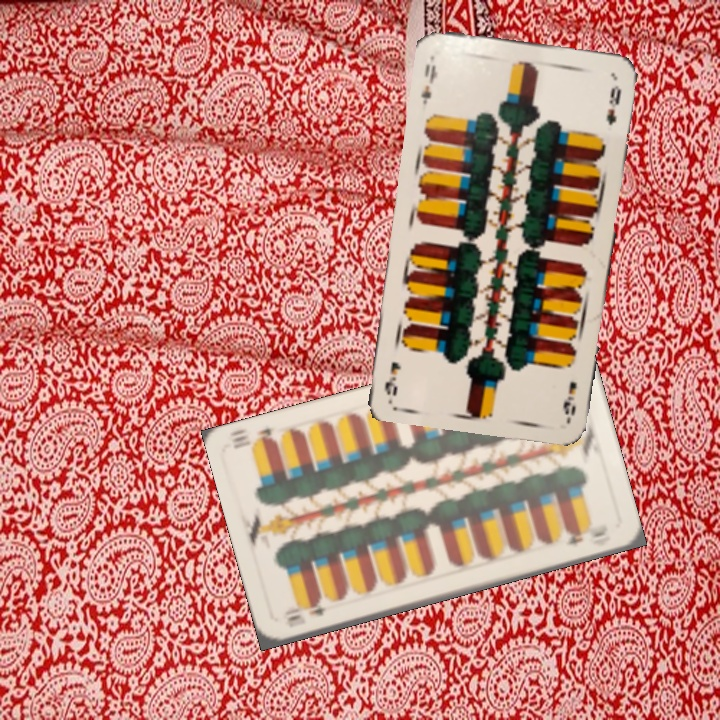E10: (282, 598, 329, 630)
E9: (417, 60, 440, 107), (559, 377, 580, 422)
